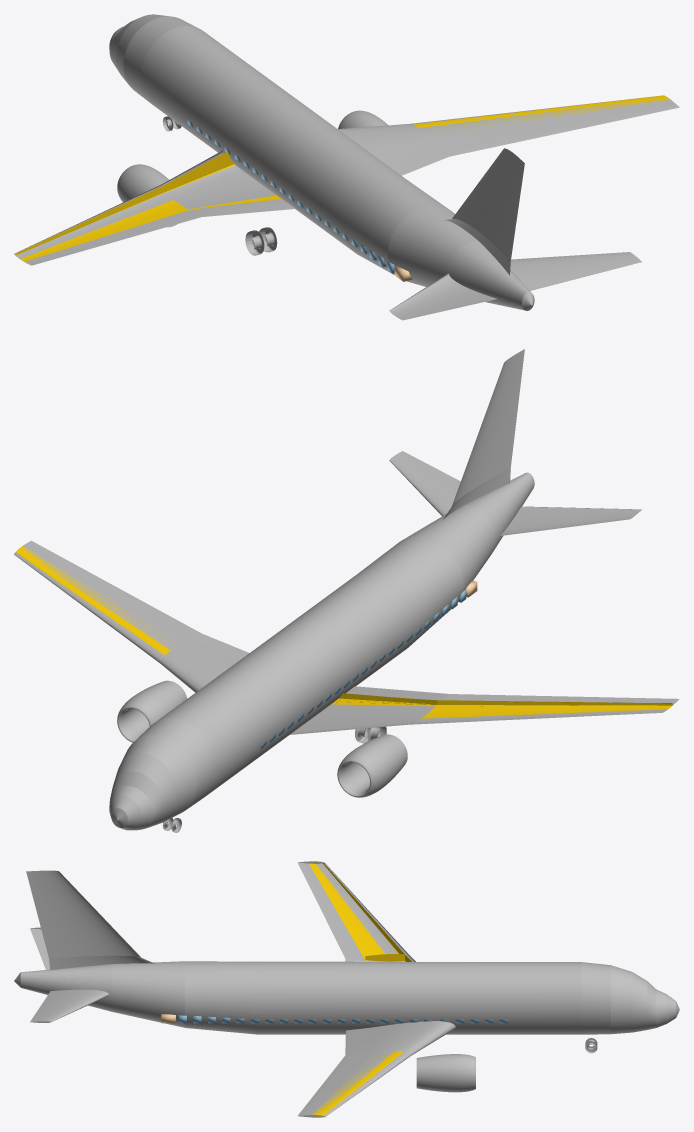
File: Airbus_A320.gltf
The picture shows the model from 3 angles, top to bottom: view 1: azimuth 30°, elevation 25°; view 2: azimuth 150°, elevation 25°; view 3: azimuth 270°, elevation 25°; orthographic projection. The views are drawn at different scales.
Parts seen in each view (by area): view 1: Renderer Node; view 2: Renderer Node; view 3: Renderer Node.
Part boxes in pixels (<box>): Renderer Node: <box>14,14,679,320</box>; Renderer Node: <box>14,349,679,832</box>; Renderer Node: <box>14,861,679,1117</box>.
Bounding box in the file's own units: 33.87 × 11.41 × 37.57.
